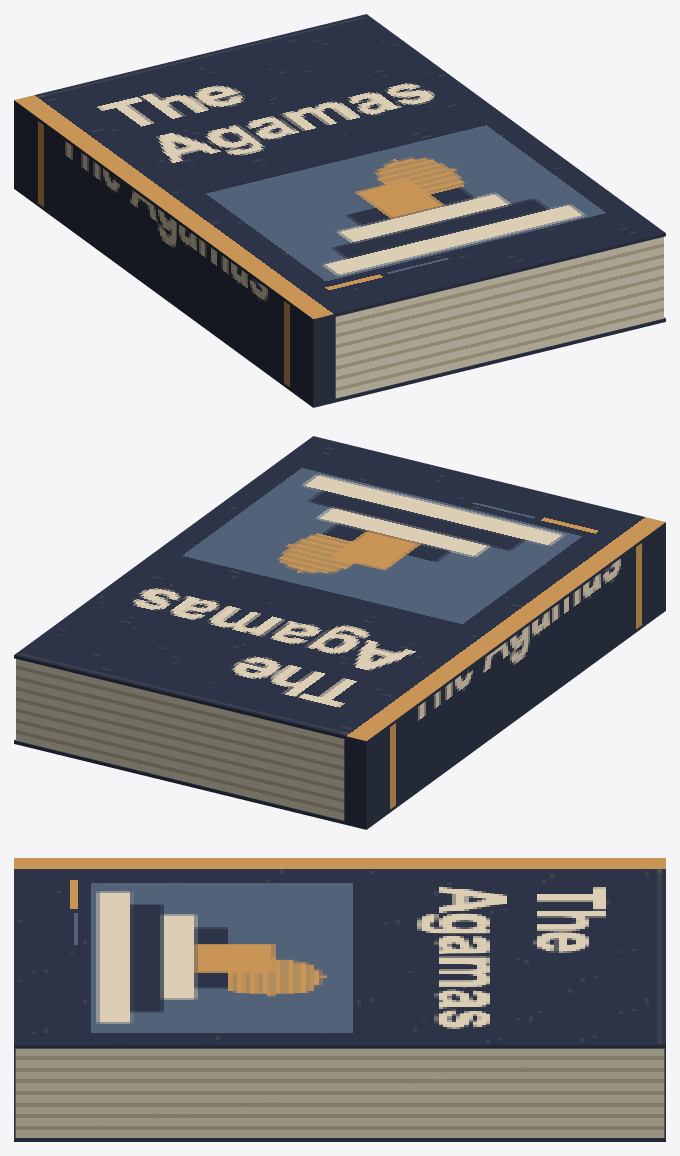
The model's file is holybook_agamas.glb.
3 renders of one model, top to bottom at view 1: azimuth 30°, elevation 25°; view 2: azimuth 150°, elevation 25°; view 3: azimuth 270°, elevation 25°, orthographic. The views are drawn at different scales.
Visible parts, largest first — view 1: block_front cover, block_page block, block_spine, block_back cover; view 2: block_front cover, block_page block, block_spine, block_back cover; view 3: block_front cover, block_page block, block_back cover.
Boxes of the visible parts, bbox=[...] form: block_front cover: bbox=[14, 14, 665, 322]; block_page block: bbox=[335, 237, 663, 398]; block_spine: bbox=[14, 103, 335, 404]; block_back cover: bbox=[14, 186, 665, 407]; block_front cover: bbox=[14, 436, 665, 744]; block_page block: bbox=[16, 659, 344, 820]; block_spine: bbox=[344, 525, 665, 826]; block_back cover: bbox=[14, 608, 665, 829]; block_front cover: bbox=[14, 858, 665, 1048]; block_page block: bbox=[15, 1048, 664, 1137]; block_back cover: bbox=[14, 1048, 665, 1141].
Size of the model in its own units: 0.1414 by 0.034 by 0.208.
Materials: 1 (1 with a texture image).
